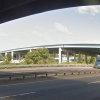Bridge: (5, 35, 100, 71)
